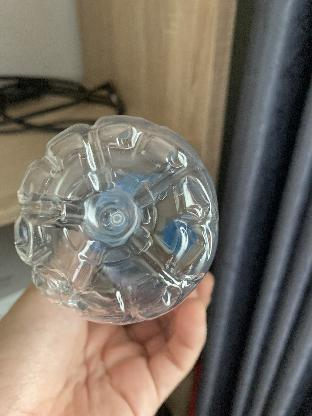Plastic Bottle: (10, 107, 222, 329)
